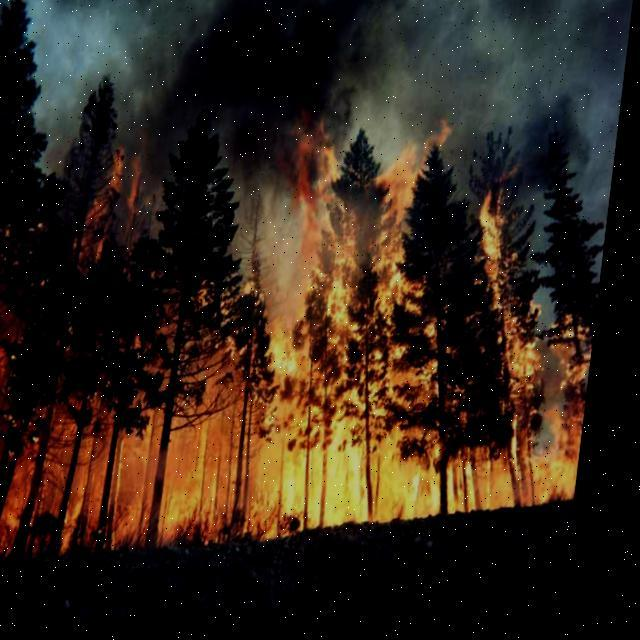Fire: (257, 130, 623, 544), (121, 348, 267, 556)
